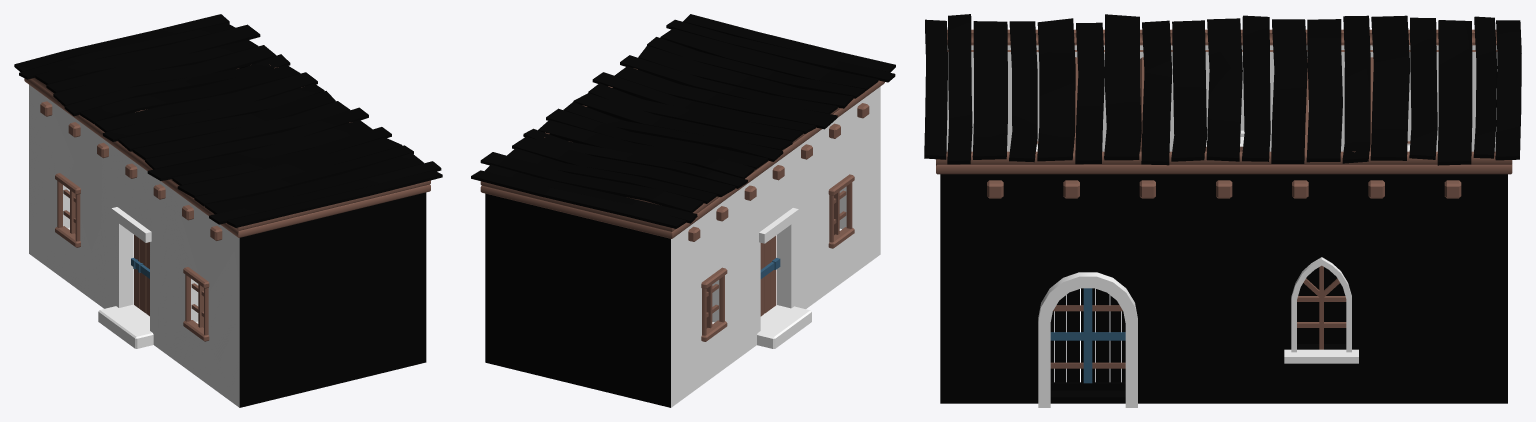
The model's file is civilian_house_38_b.FBX.
The picture shows the model from 3 angles, left to right: view 1: azimuth 30°, elevation 25°; view 2: azimuth 150°, elevation 25°; view 3: azimuth 270°, elevation 25°; orthographic projection. The views are drawn at different scales.
Parts seen in each view (by area): view 1: civilian_house_38_b_LOD0; view 2: civilian_house_38_b_LOD0; view 3: civilian_house_38_b_LOD0.
Boxes of the visible parts, left/top/right/bottom form: civilian_house_38_b_LOD0: left=14, top=14, right=442, bottom=407; civilian_house_38_b_LOD0: left=471, top=14, right=895, bottom=407; civilian_house_38_b_LOD0: left=924, top=14, right=1521, bottom=407.
Size of what is drawn, in the model's own units: 615 by 502 by 1053.
